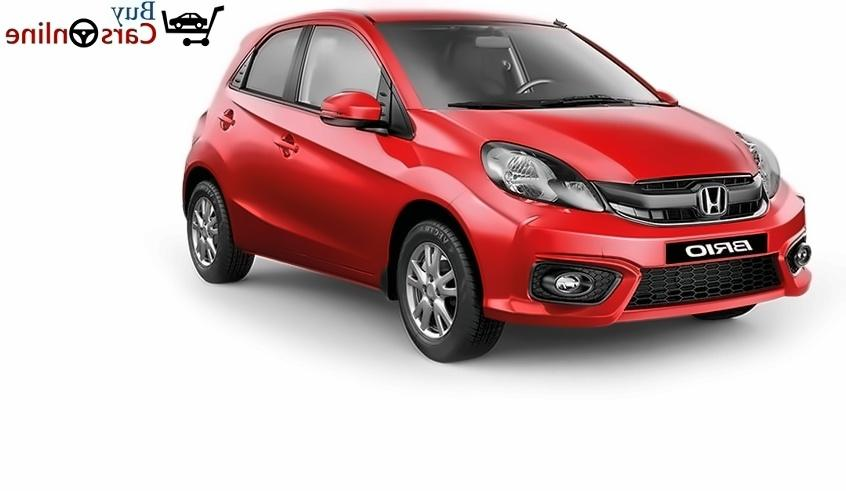Car hood: (422, 102, 761, 179)
Driver-s door - -F-R-: (262, 5, 396, 290)
Fender - -F-R-: (375, 109, 492, 299)
Front bumper: (439, 189, 816, 329)
Headlight - -L-: (736, 128, 781, 206)
Headlight - -R-: (476, 139, 608, 216)
Passenger-s door - -R-R-: (195, 4, 306, 281)
Side bumper - -R-: (223, 216, 399, 305)
Side mirror - -R-: (319, 83, 394, 139)
